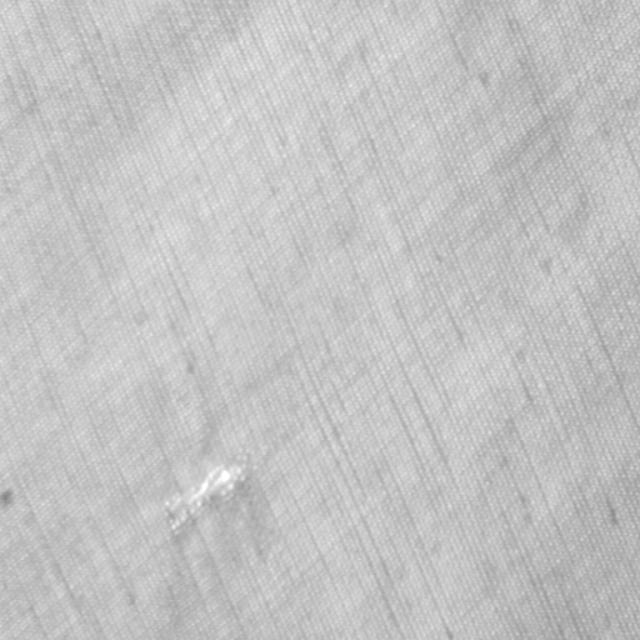hole: (160, 444, 254, 544)
